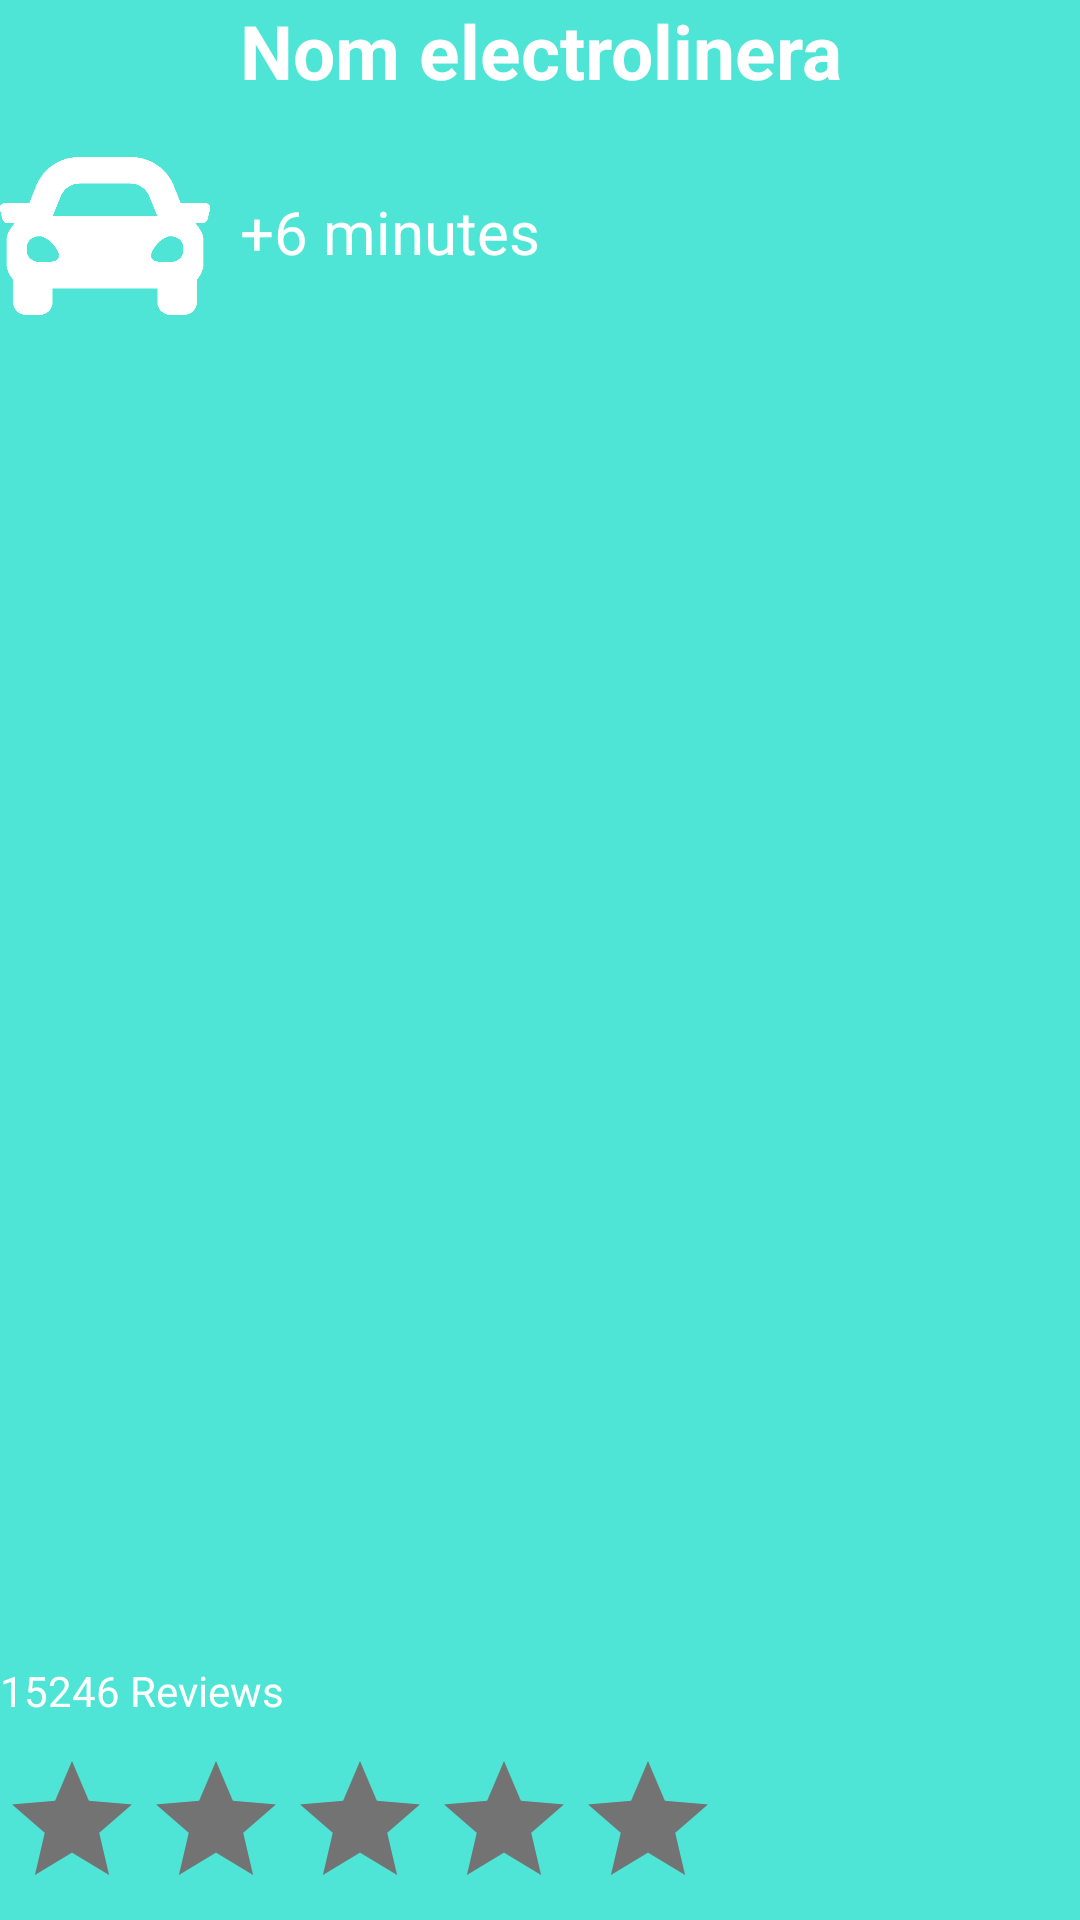

Where to tap for icons on this 1080 x 1920 app screen, as (x,y):
car: (105,236)
